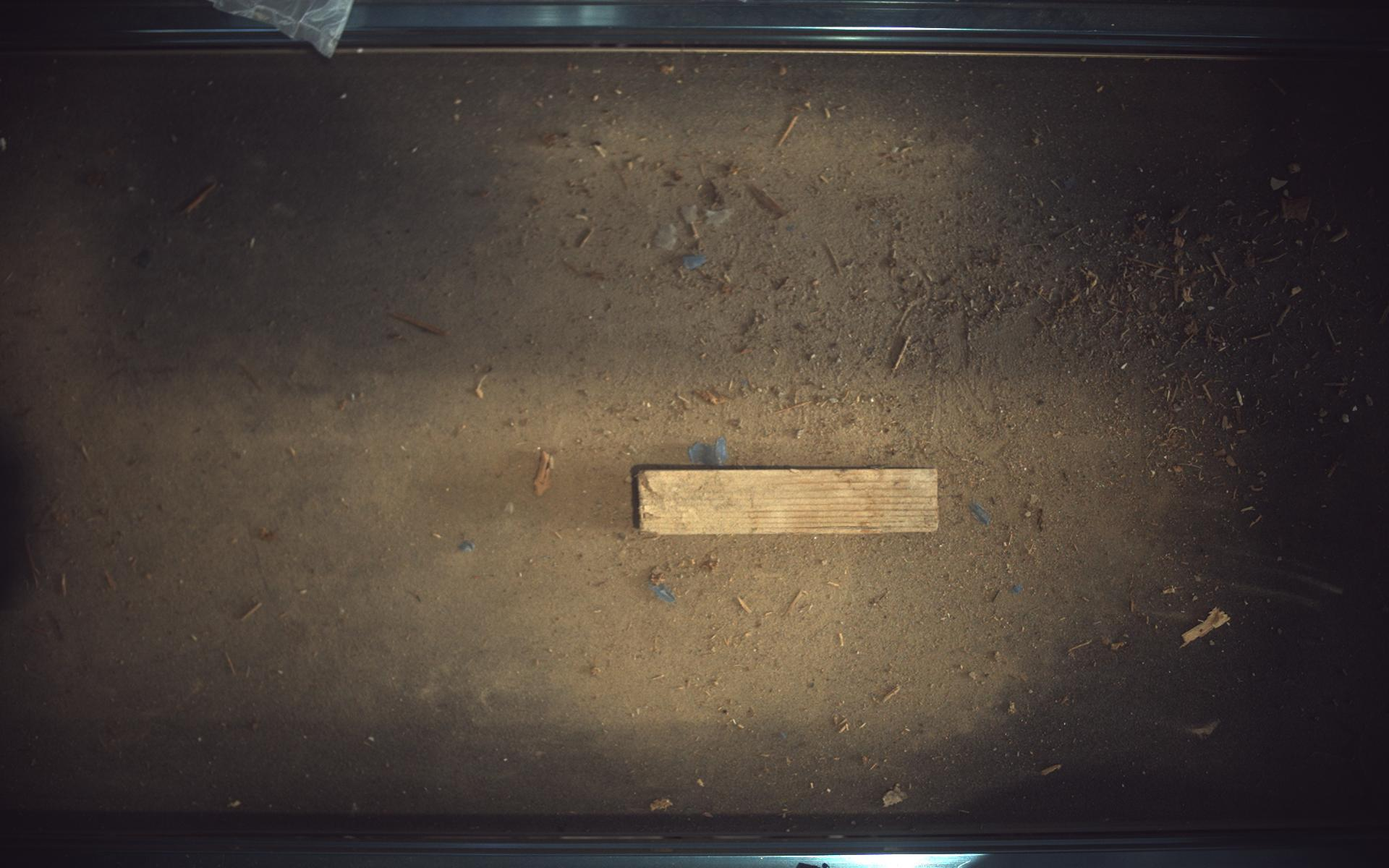wood: (632, 465, 940, 535)
